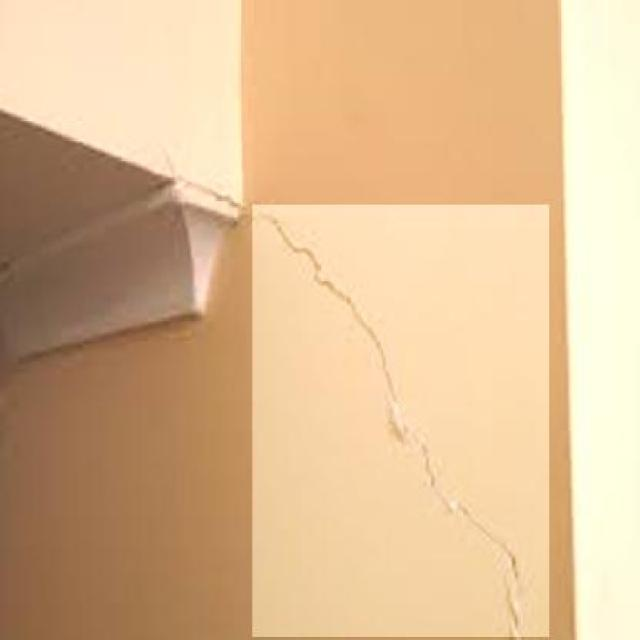Crack: (264, 196, 538, 635), (157, 160, 241, 214)
